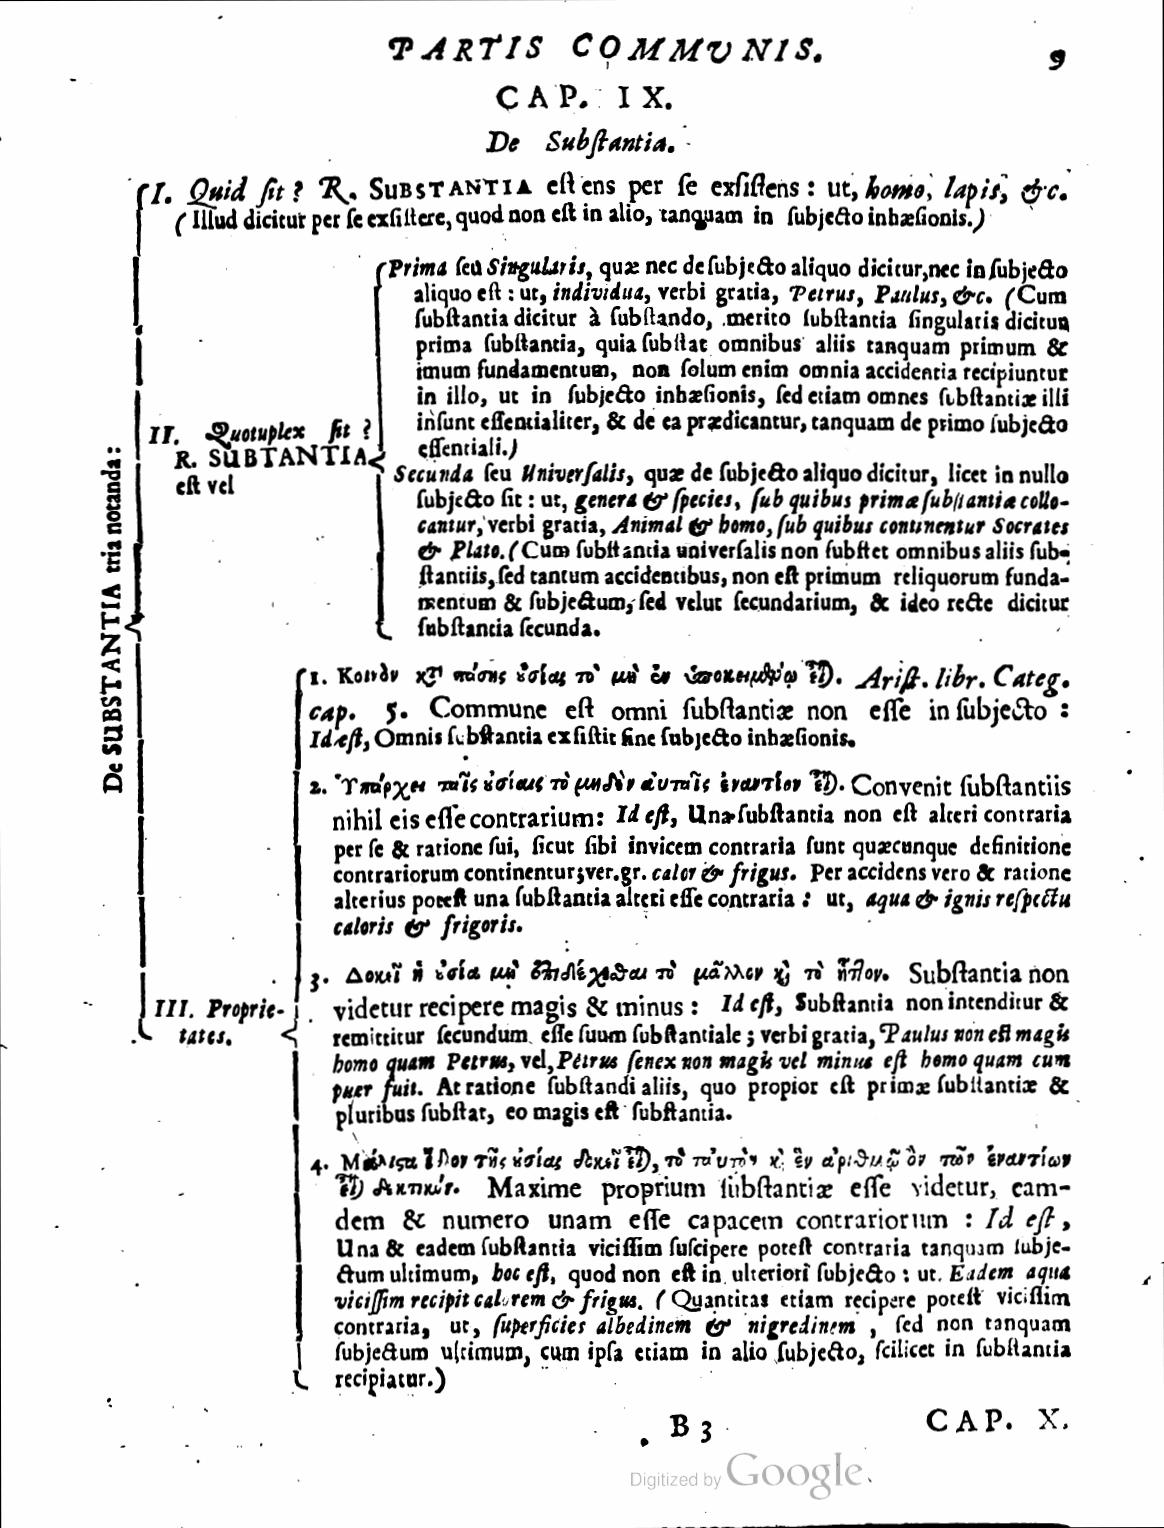catchword: (924, 1402, 1067, 1442)
full_p: (490, 78, 679, 119)
header: (378, 26, 827, 70)
page_num: (1042, 44, 1070, 75)
signature: (666, 1409, 718, 1446)
text_viz: (92, 126, 1074, 1405)
